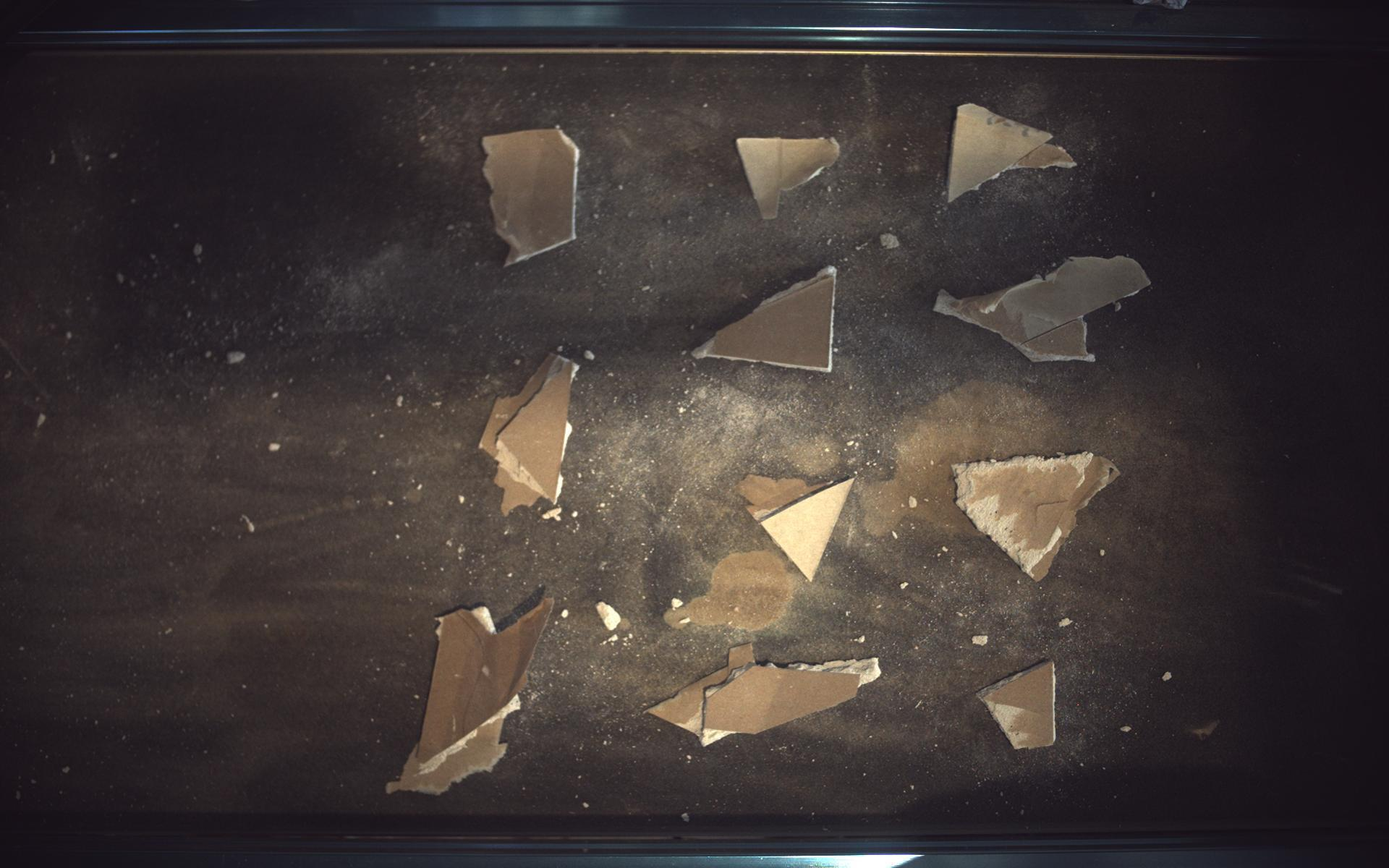gypsum_board: (386, 589, 554, 796), (649, 645, 882, 746), (936, 255, 1152, 361), (953, 452, 1122, 582), (480, 353, 579, 516), (692, 265, 838, 372), (483, 127, 580, 265), (738, 475, 856, 582), (950, 103, 1078, 201), (737, 136, 841, 218), (980, 661, 1058, 751)
